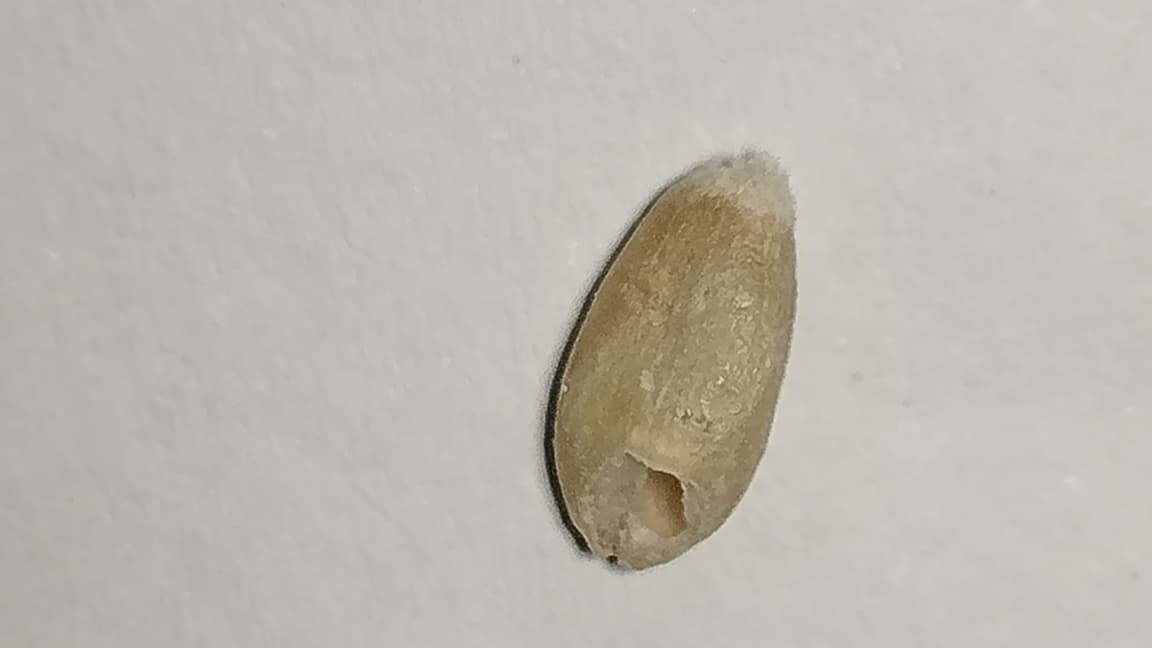damage: (545, 152, 797, 572)
insectdamage: (561, 412, 709, 571)
